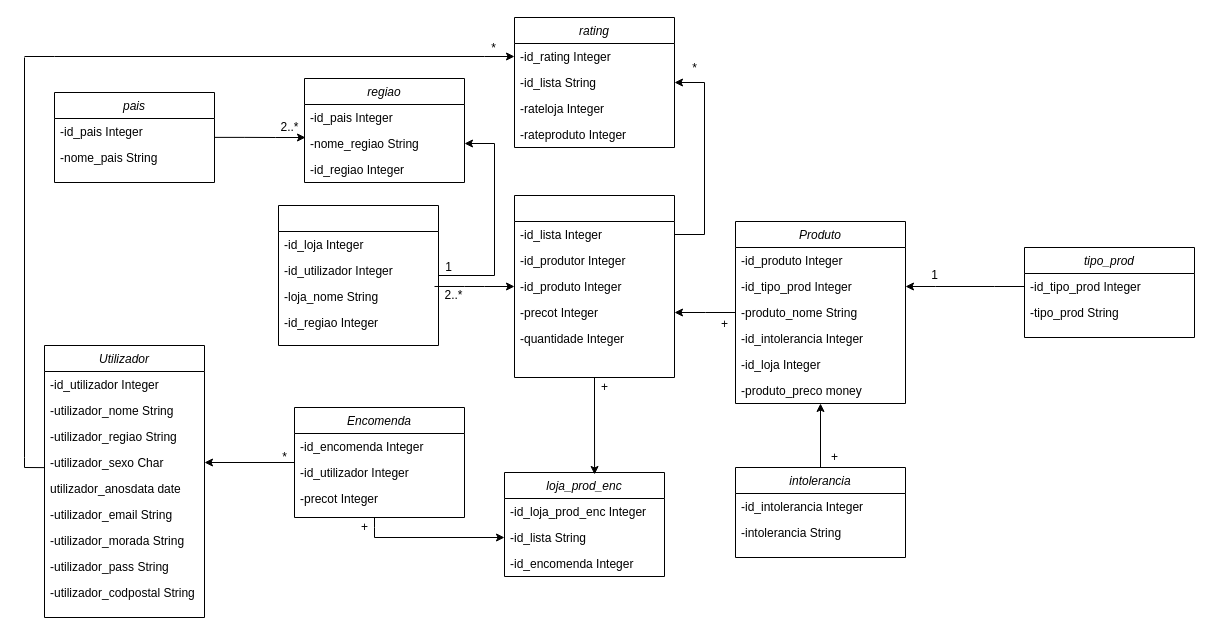
Some shapes in this 1212 by 635 pixel diagram are drawn without their labels. Each missing label, with the box of its shape:
lista_compras: (514, 194, 674, 378)
Produtor: (278, 204, 438, 346)
